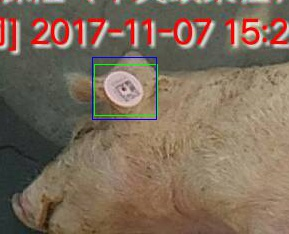text: (94, 64, 157, 115)
